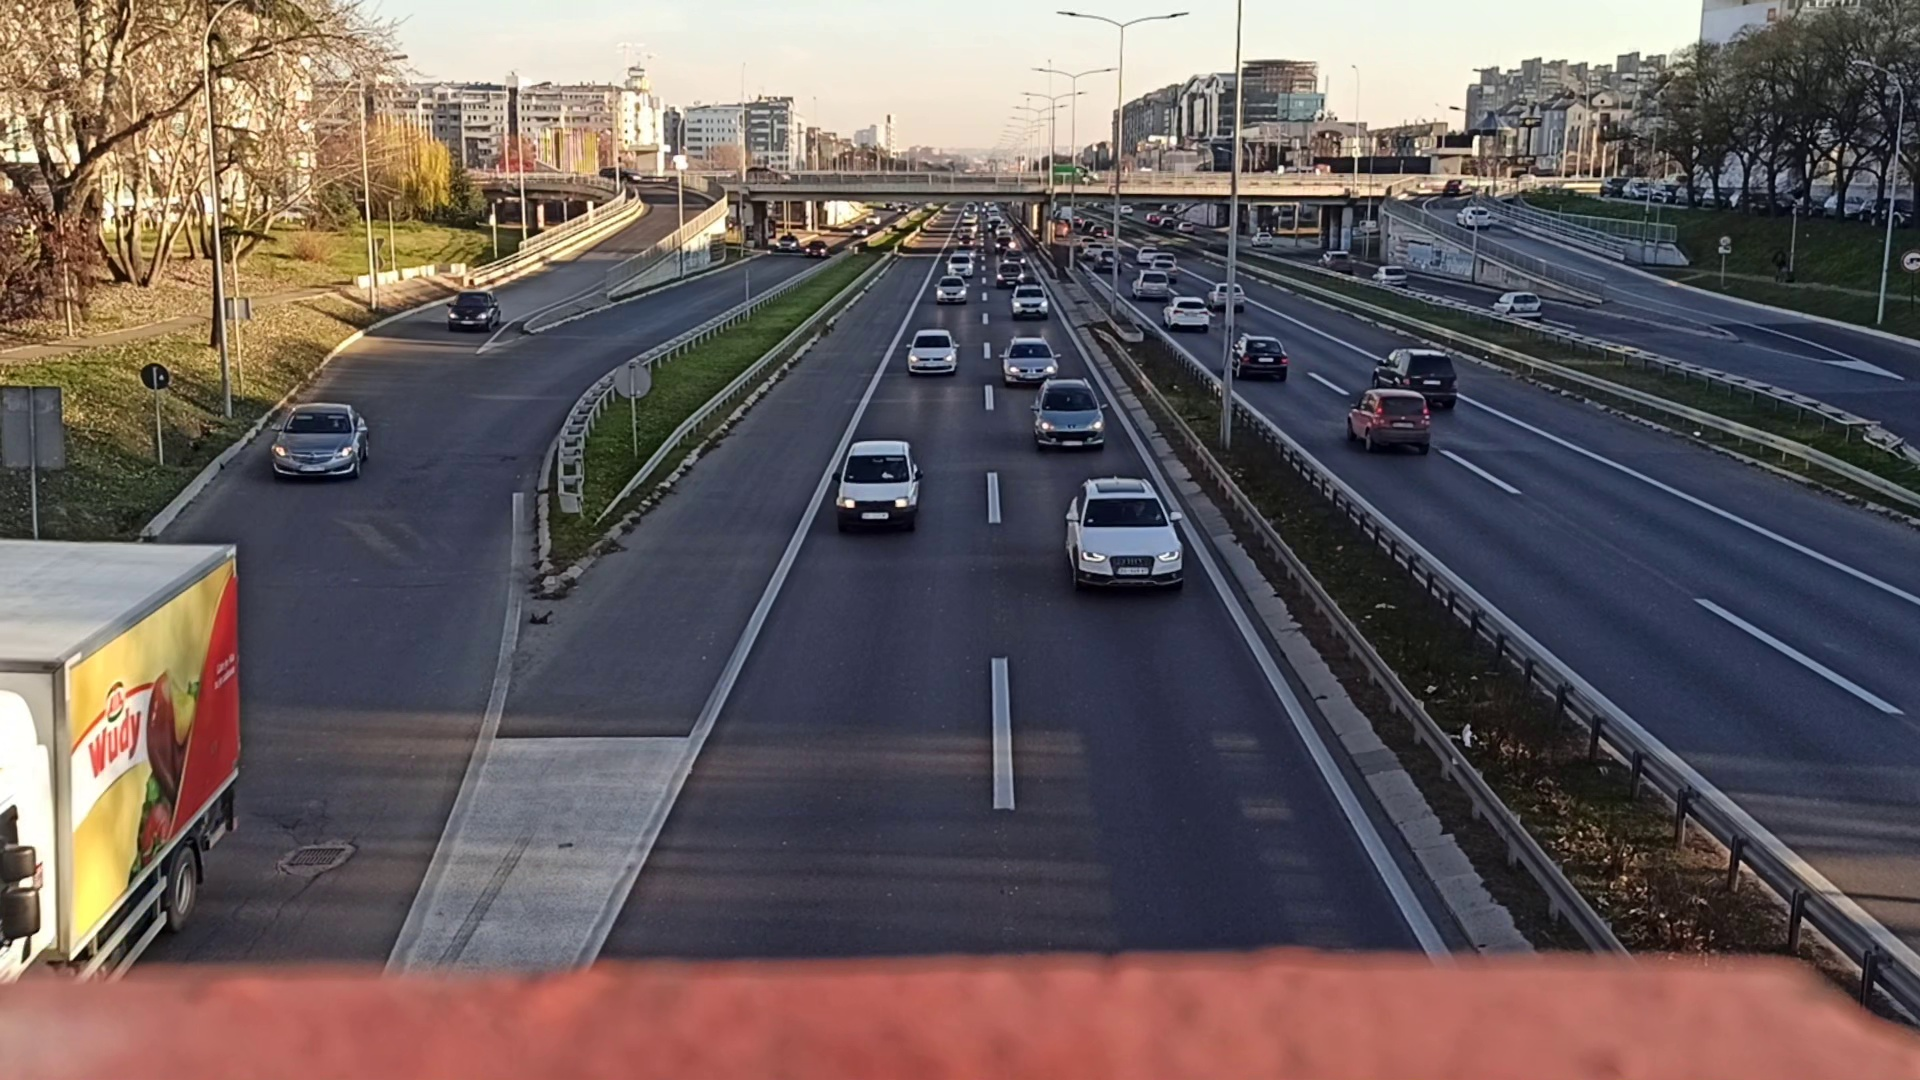car: (1065, 479, 1180, 599), (837, 440, 923, 534), (278, 404, 371, 487), (1375, 345, 1458, 409), (1349, 388, 1429, 450), (1034, 377, 1100, 452), (1226, 334, 1287, 381), (1002, 339, 1059, 389), (444, 290, 500, 336), (907, 327, 957, 377), (1490, 290, 1542, 324), (1164, 295, 1208, 331), (1009, 285, 1048, 316), (1130, 269, 1166, 299), (935, 276, 967, 303)
